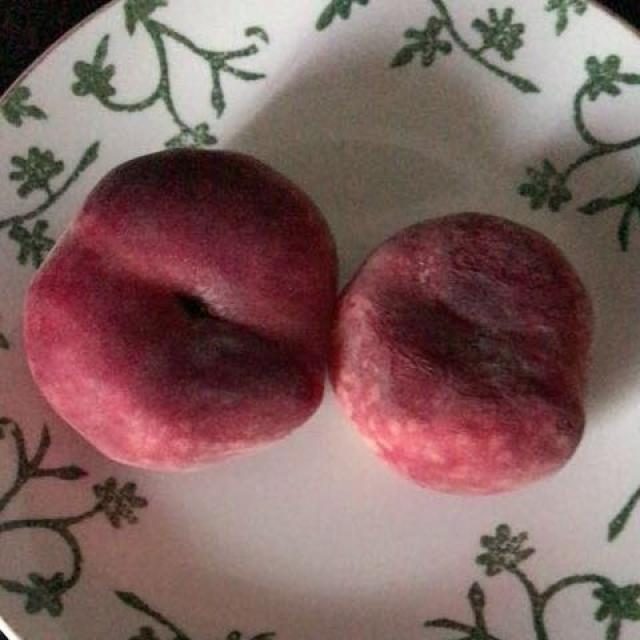peach: (23, 162, 590, 489)
